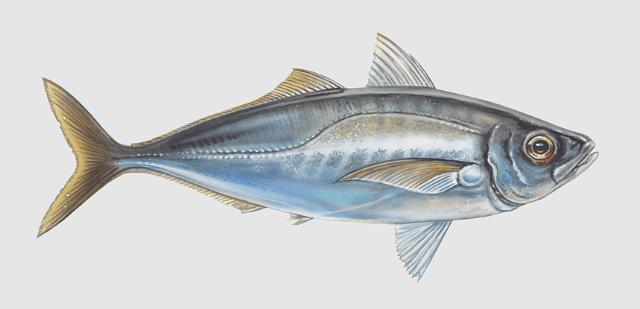Mulut: (566, 129, 608, 191)
Sirip Anal: (274, 199, 318, 230)
Sirip Dada: (327, 150, 487, 202)
Sirip Ekor: (24, 73, 120, 246)
Sirip Perut: (386, 211, 442, 289)
Sirip Punggung: (259, 18, 439, 108)
